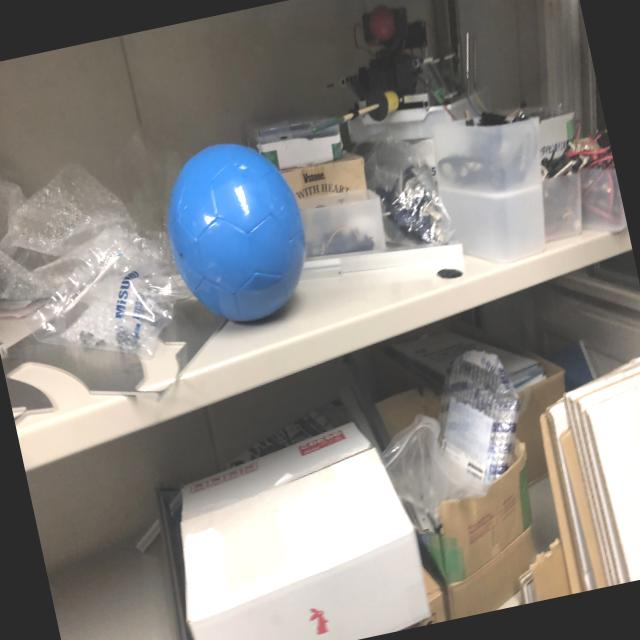blue_ball: (154, 135, 318, 328)
